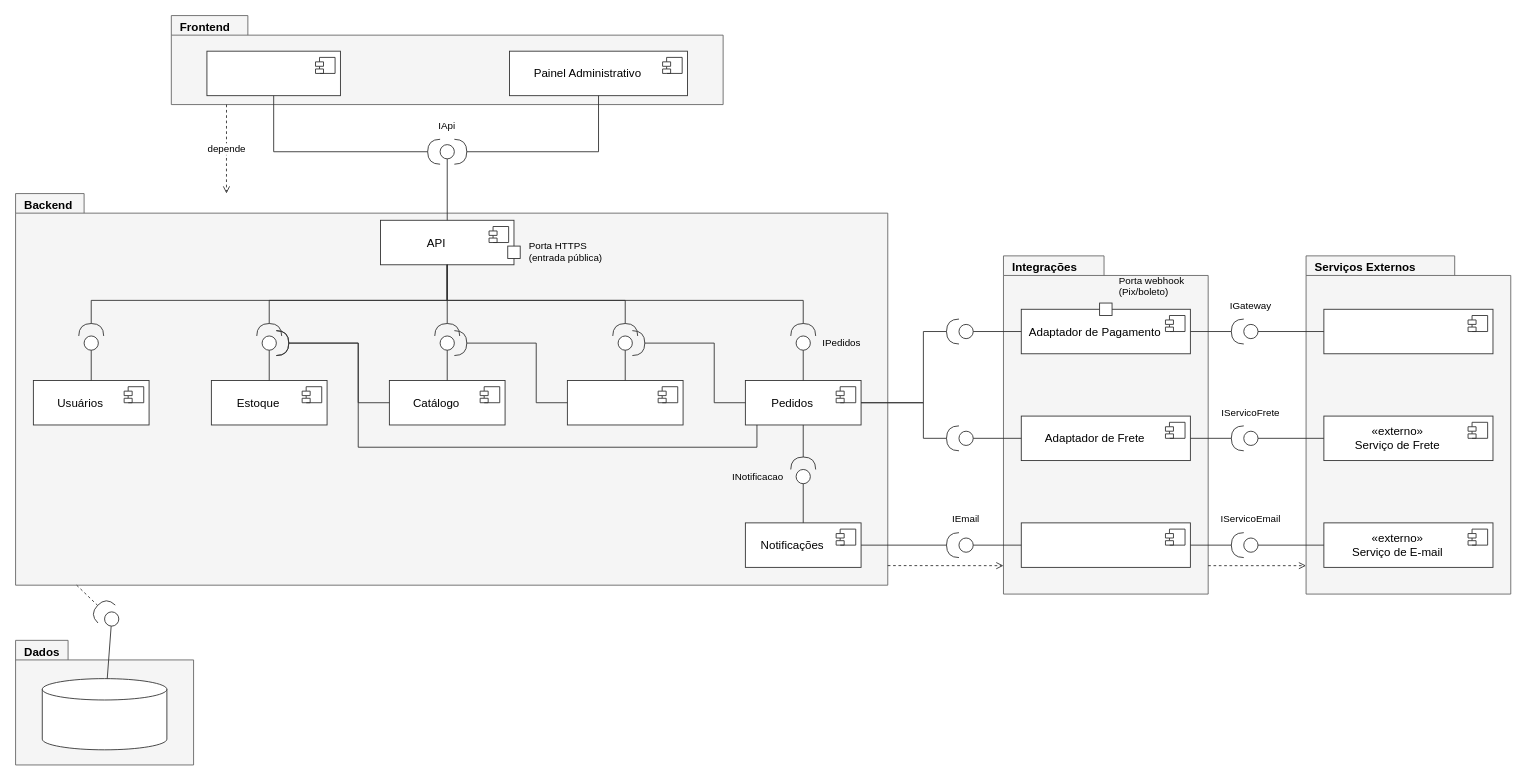
This 1526x781 diagram has some shape labels left out. Each missing label, with the centre of its shape:
"Adaptador de E-mail" belongs at [1105,544].
"Banco de Dados" belongs at [104,714].
"Carrinho" belongs at [624,402].
"ICarrinho" belongs at [624,342].
"ICatalogo" belongs at [446,342].
"IDados" belongs at [111,618].
"IEstoque" belongs at [268,342].
"IFrete" belongs at [965,437].
"Interface da Loja" belongs at [273,73].
"IPagamento" belongs at [965,331].
"IUsuarios" belongs at [90,342].
"«externo» Gateway de Pagamento" belongs at [1408,331].
